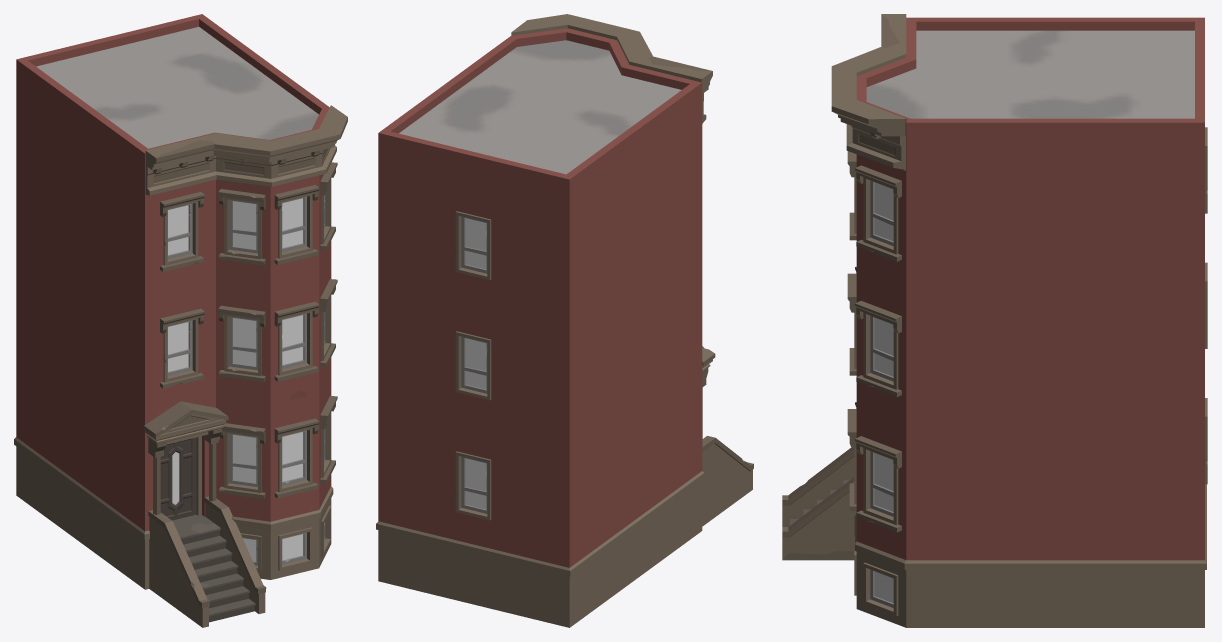
File: SM_Bldg_City_Apartment_T2_3Floor_02.fbx
The picture shows the model from 3 angles, left to right: view 1: azimuth 30°, elevation 25°; view 2: azimuth 150°, elevation 25°; view 3: azimuth 270°, elevation 25°; orthographic projection. The views are drawn at different scales.
Visible parts, largest first — view 1: SM_Bldg_City_Apartment_T2_3Floor_02, SM_Bldg_City_Apartment_T2_3Floor_02_Glass, SM_Bldg_City_Apartment_T2_3Floor_02_Door; view 2: SM_Bldg_City_Apartment_T2_3Floor_02, SM_Bldg_City_Apartment_T2_3Floor_02_Glass; view 3: SM_Bldg_City_Apartment_T2_3Floor_02, SM_Bldg_City_Apartment_T2_3Floor_02_Glass.
Part boxes in pixels (x1,y1,x2,y2): SM_Bldg_City_Apartment_T2_3Floor_02: (14,14,347,627); SM_Bldg_City_Apartment_T2_3Floor_02_Glass: (168,198,303,561); SM_Bldg_City_Apartment_T2_3Floor_02_Door: (160,437,196,520); SM_Bldg_City_Apartment_T2_3Floor_02: (376,14,753,627); SM_Bldg_City_Apartment_T2_3Floor_02_Glass: (465,218,486,509); SM_Bldg_City_Apartment_T2_3Floor_02: (782,14,1207,627); SM_Bldg_City_Apartment_T2_3Floor_02_Glass: (874,182,893,602).
Size of the model in its own units: 509 by 1128 by 854.
